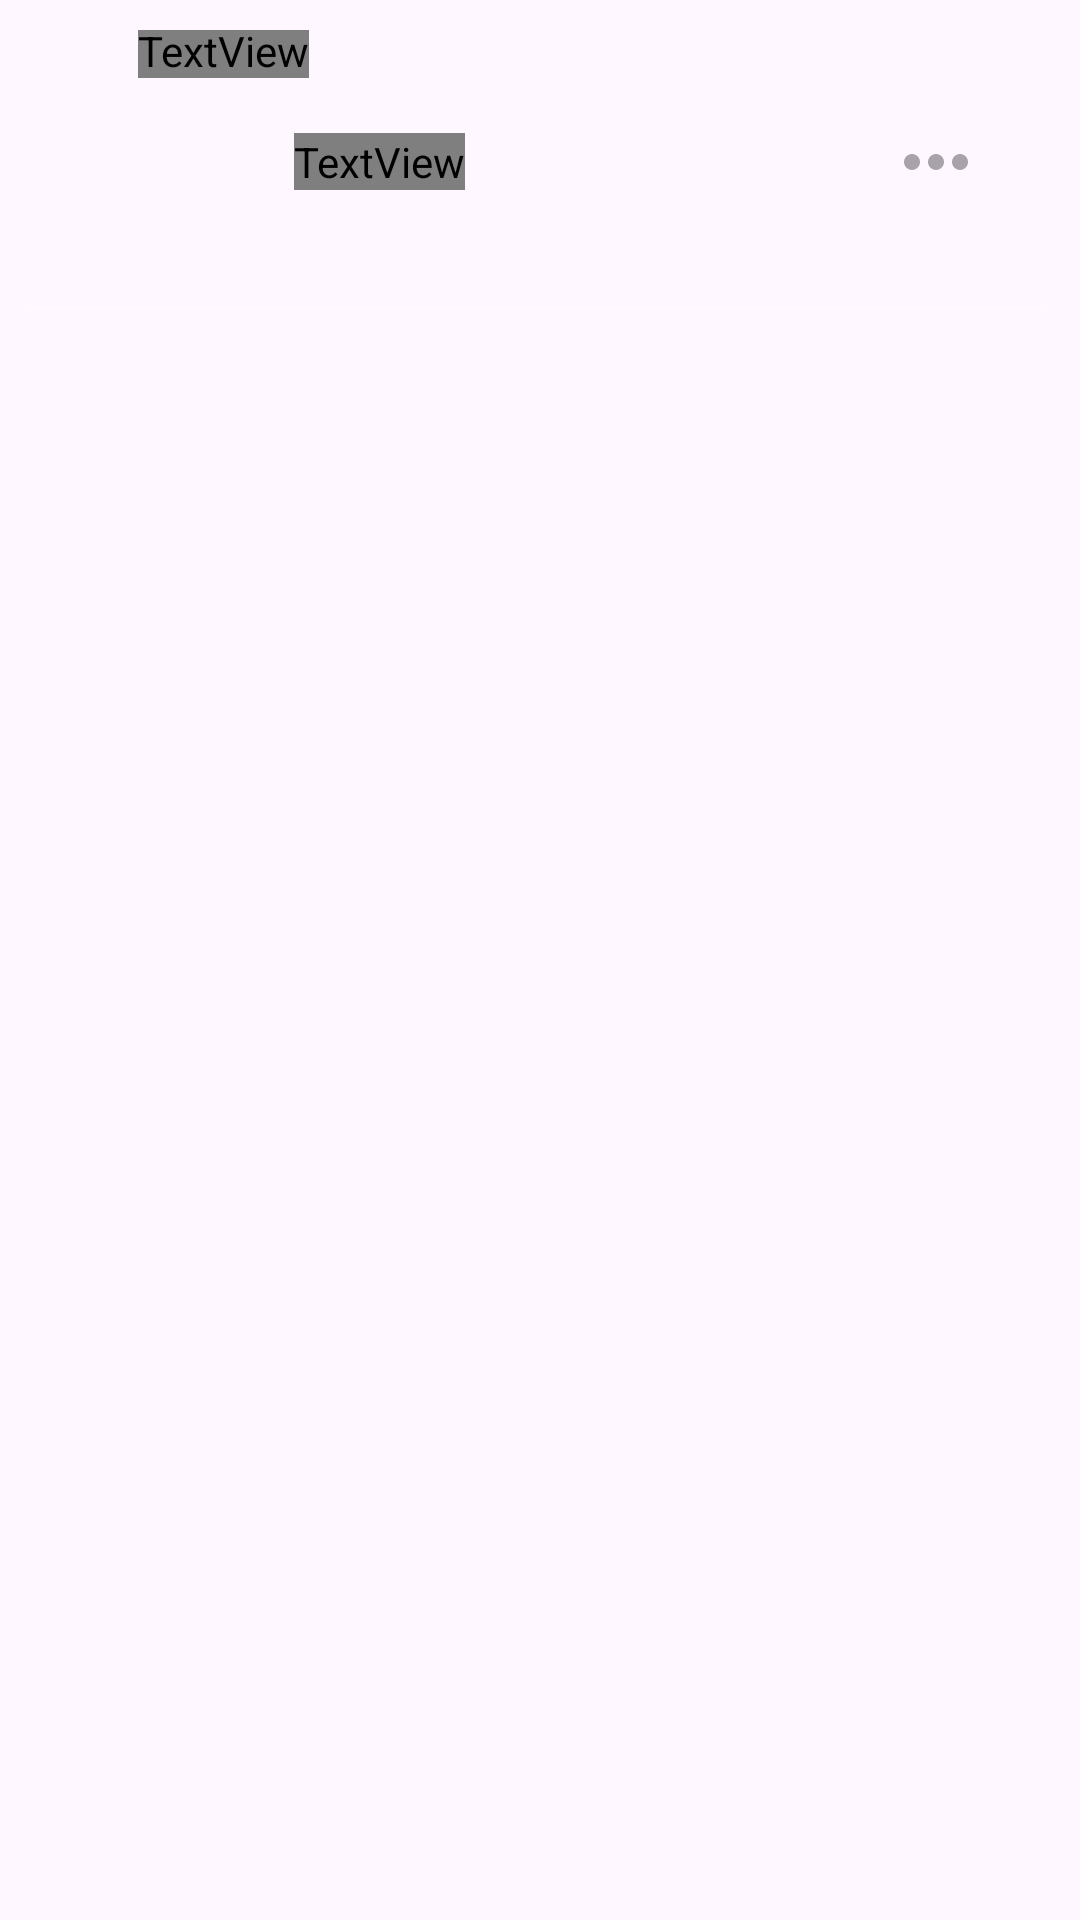

Icons on this 1080px×1920px Android screen, each with the point to tap as (x=x, y=y):
options: (x=936, y=162)
